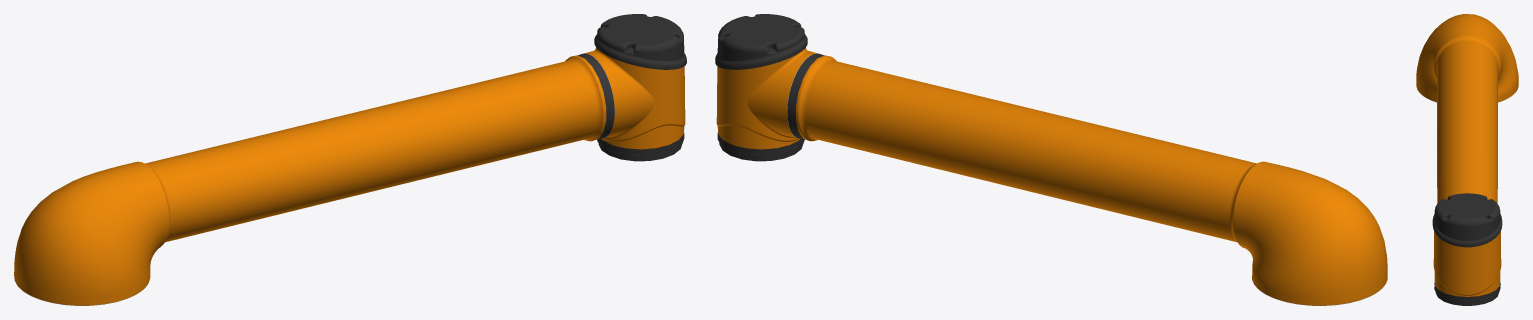
3 renders of one model, left to right at view 1: azimuth 30°, elevation 25°; view 2: azimuth 150°, elevation 25°; view 3: azimuth 270°, elevation 25°, orthographic. The views are drawn at different scales.
Visible parts, largest first — view 1: NONE; view 2: NONE; view 3: NONE.
Boxes of the visible parts, x1,y1,x2,y2 form: NONE: [14, 14, 686, 305]; NONE: [715, 14, 1387, 305]; NONE: [1416, 14, 1518, 305].
Bounding box in the file's own units: 0.8478 × 0.152 × 0.1416.
